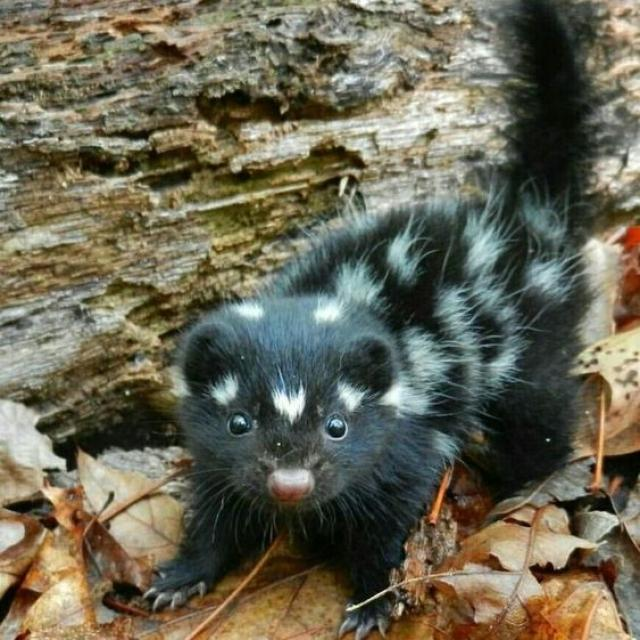Skunk: (130, 0, 618, 624)
